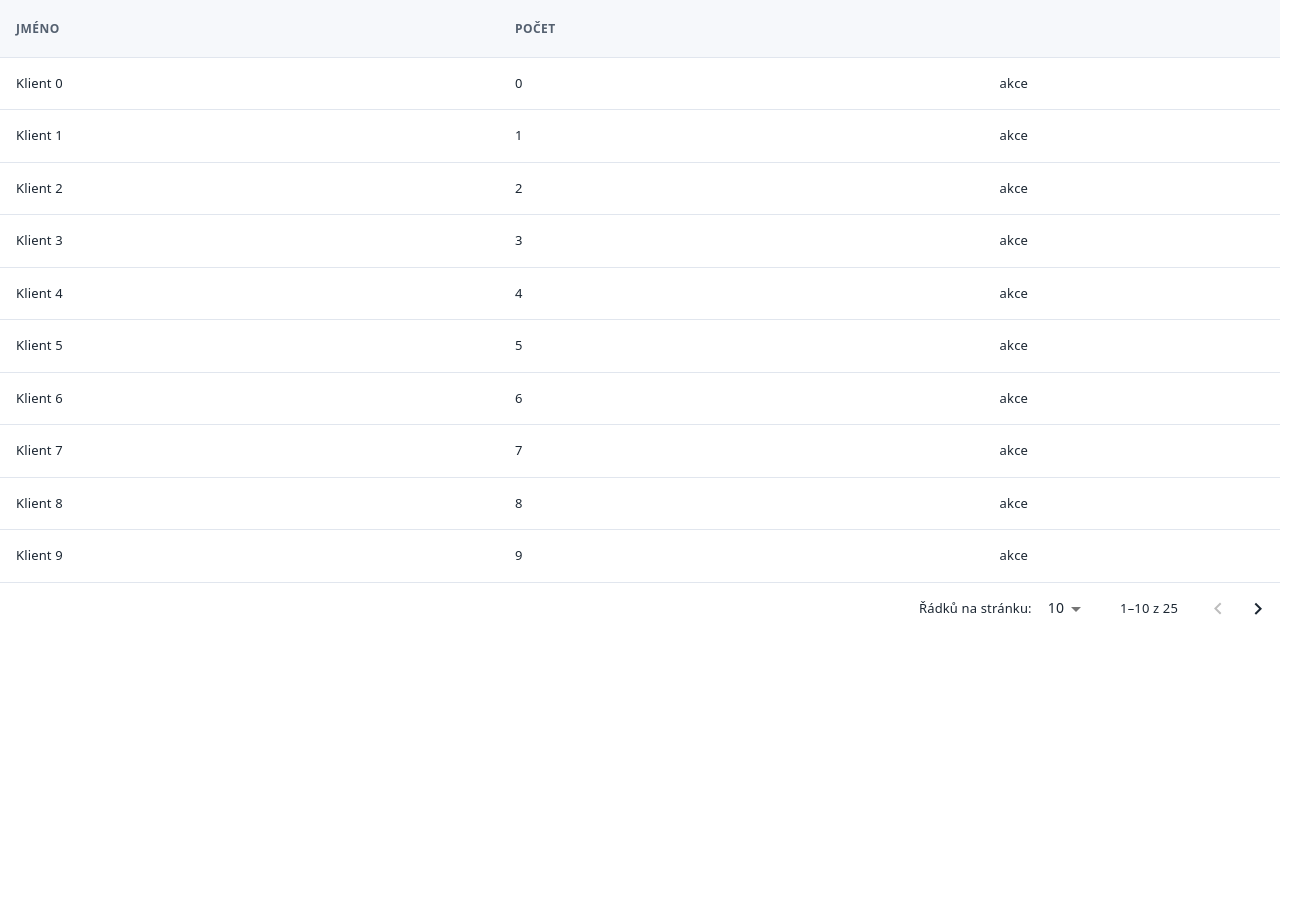
Scenario: DataTable paging › moves to the next page
Step 1. Click the button named "Další stránka" → (1258, 609), box [1238,589,1278,629]
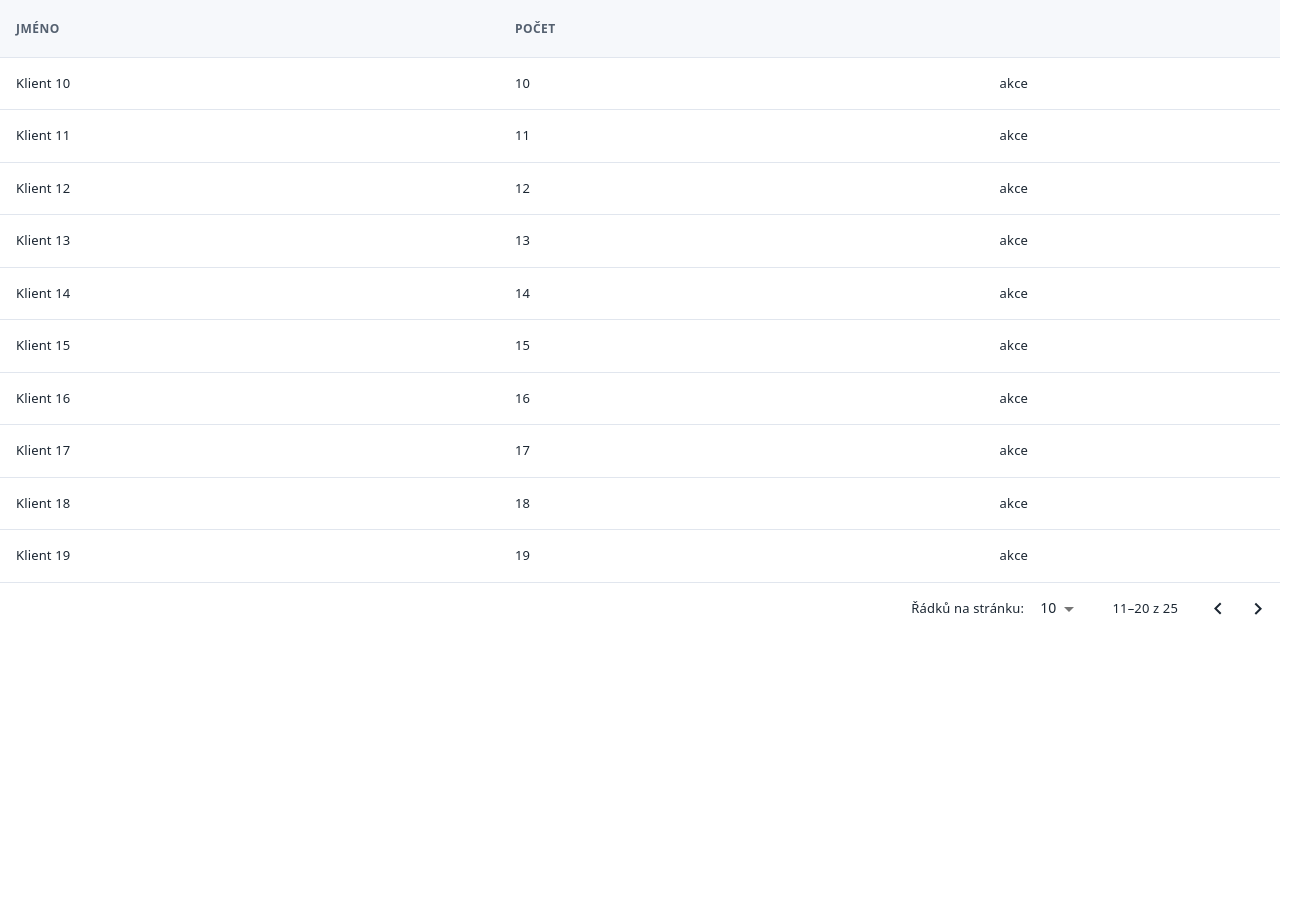
Check: the text "Klient 10" is shown, box [16,74,70,92]
Check: the text "11–20 z 25" is shown, box [1112,599,1178,618]
